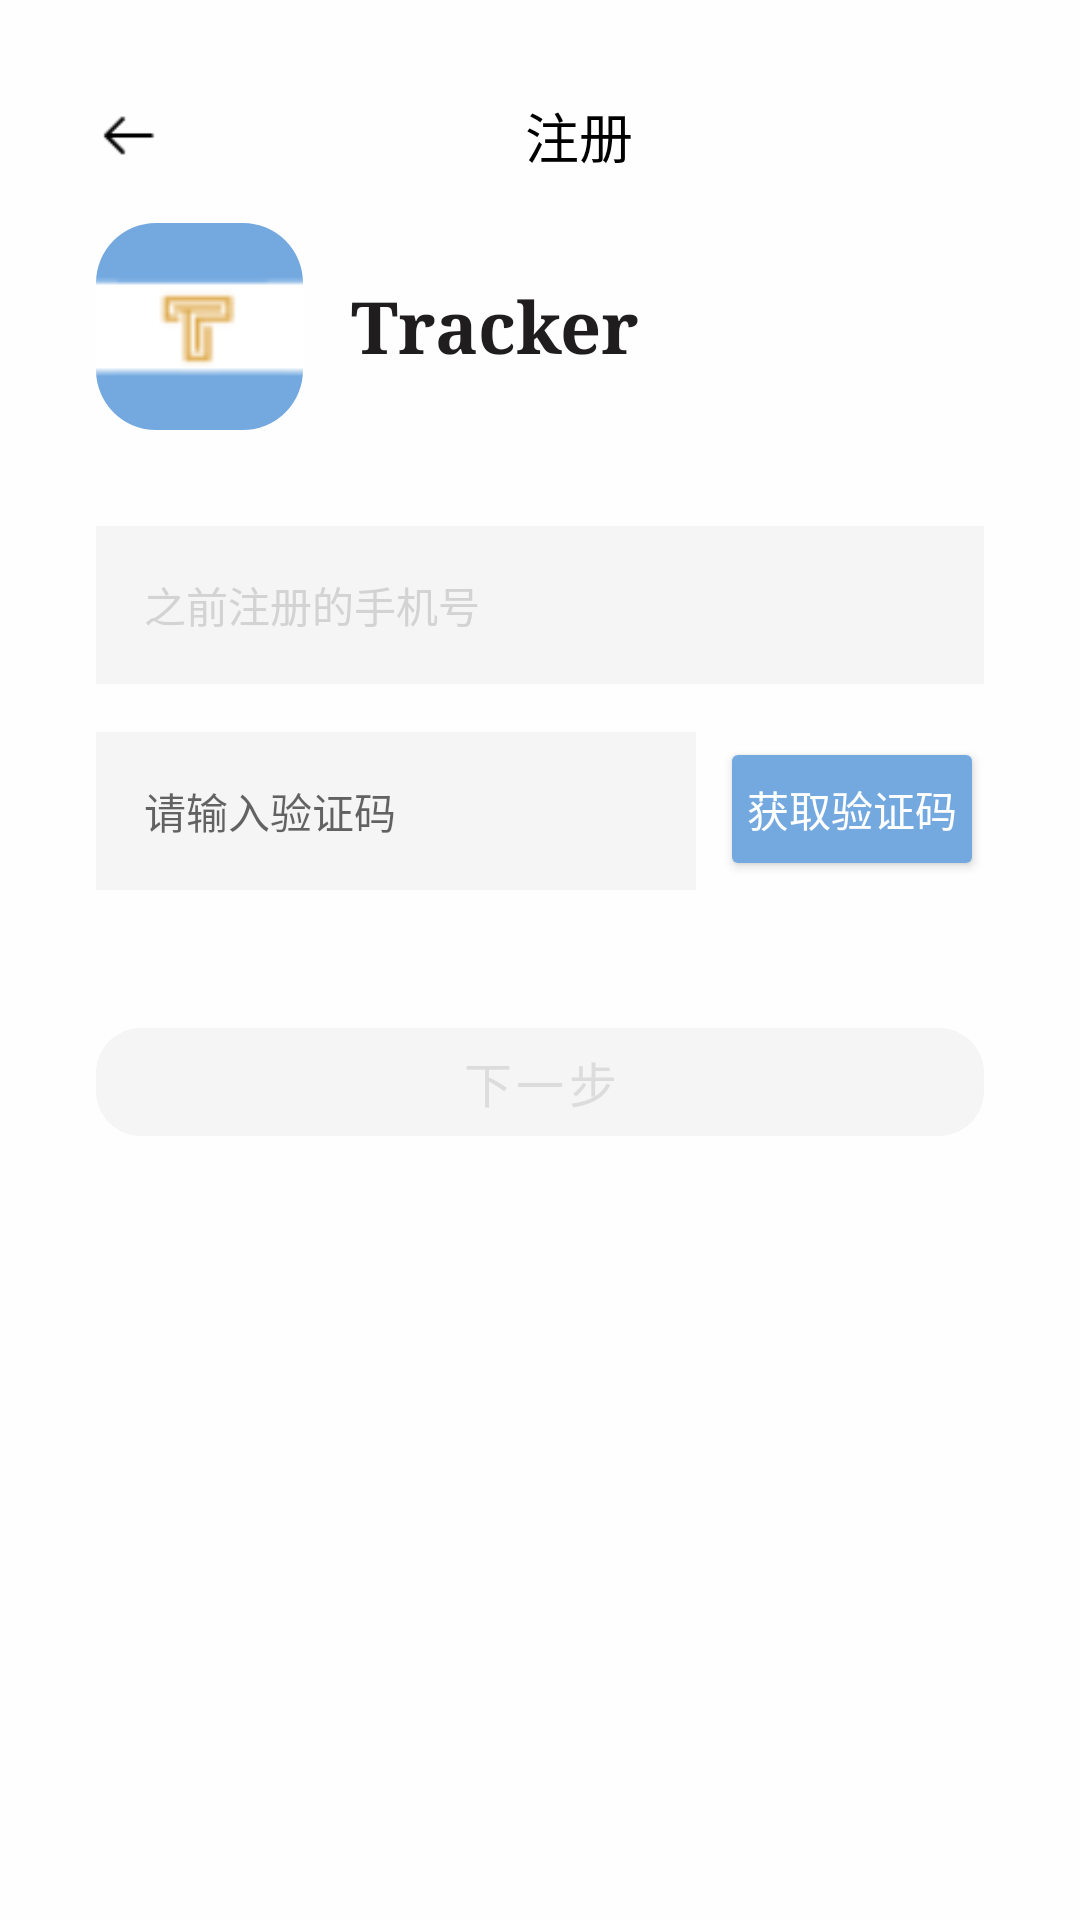

Where icons sit on this 1080 x 1920 app screen, as rect(x1, y1, x2, y2):
arrow back: rect(103, 116, 154, 155)
